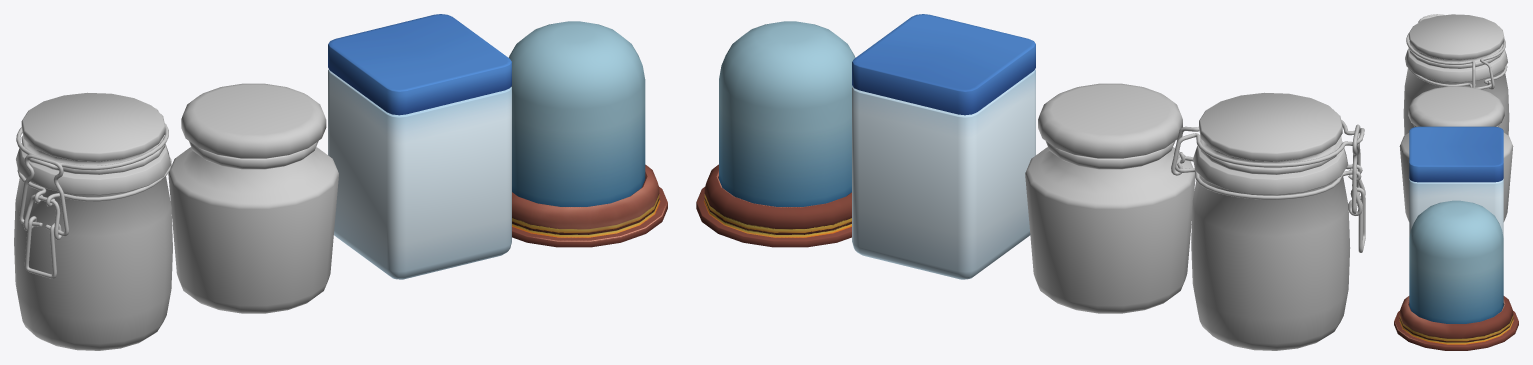
File: JarTest.fbx
3 renders of one model, left to right at view 1: azimuth 30°, elevation 25°; view 2: azimuth 150°, elevation 25°; view 3: azimuth 270°, elevation 25°, orthographic. The views are drawn at different scales.
Visible parts, largest first — view 1: Jar02, Jar04, Jar03, Jar01; view 2: Jar02, Jar04, Jar03, Jar01; view 3: Jar01, Jar02, Jar04, Jar03.
Part boxes in pixels (x1,y1,x2,y2): Jar02: (328, 14, 511, 279); Jar04: (14, 92, 172, 350); Jar03: (168, 83, 338, 313); Jar01: (508, 21, 667, 247); Jar02: (852, 14, 1035, 279); Jar04: (1171, 92, 1365, 350); Jar03: (1025, 83, 1195, 313); Jar01: (696, 21, 855, 247); Jar01: (1394, 200, 1518, 350); Jar02: (1409, 126, 1503, 237); Jar04: (1403, 14, 1509, 135); Jar03: (1399, 86, 1513, 221).
Bounding box in the file's own units: 1041 × 315 × 264.
